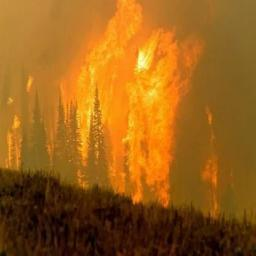Heavy smoke: (5, 0, 256, 213)
Large fire: (0, 0, 184, 208)
